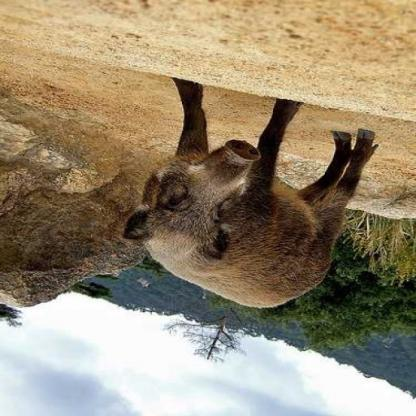boar: (115, 71, 383, 337)
